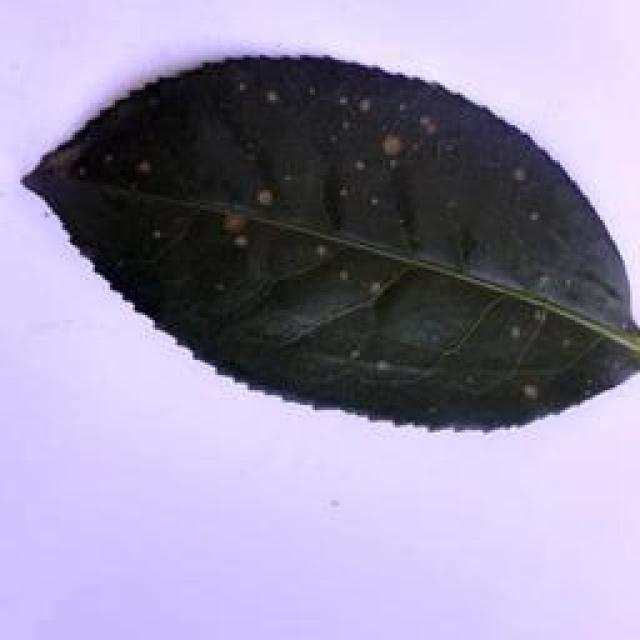Algal Leaf Spot: (22, 51, 638, 442)
